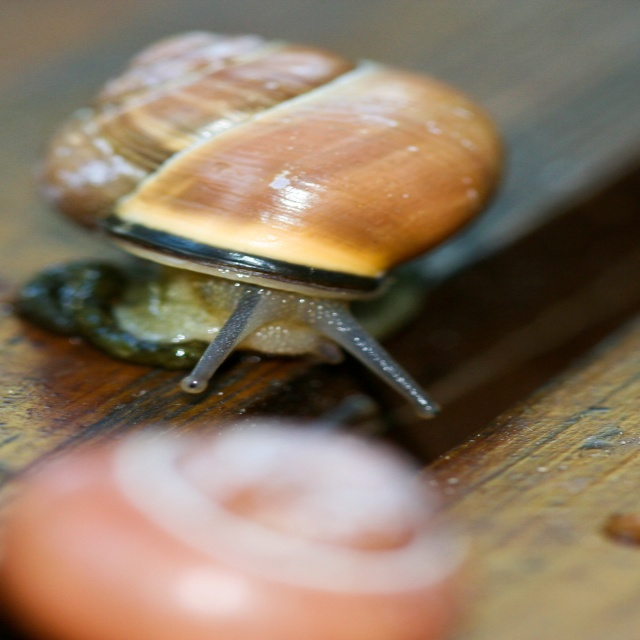Snail: (31, 26, 512, 422)
